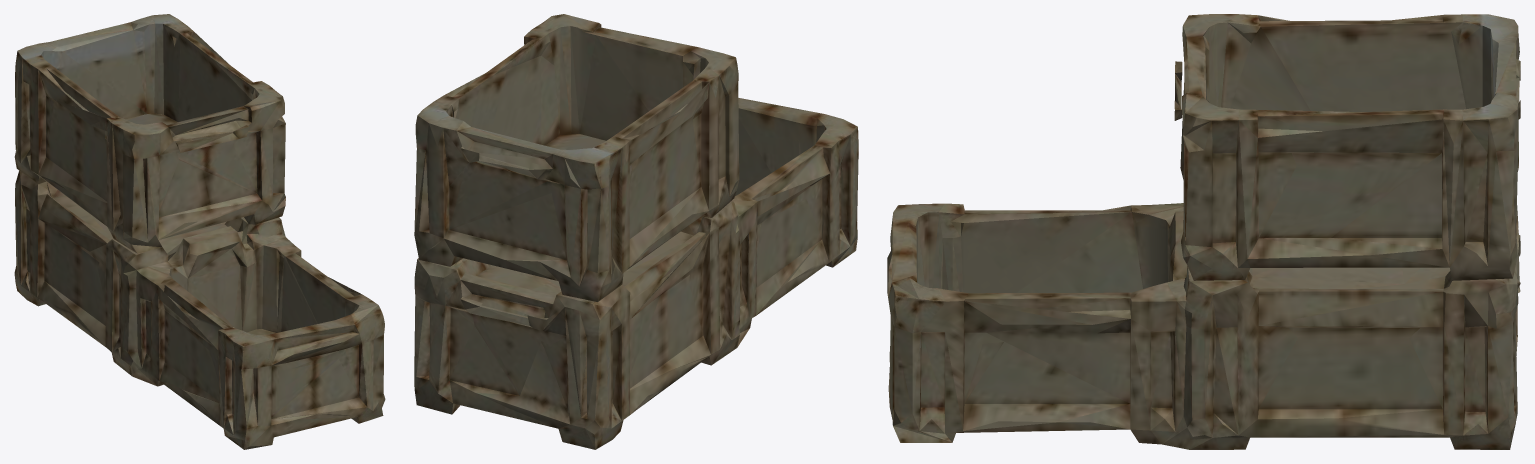
File: cajas-metal.glb
3 views of the same model, side by side, from view 1: azimuth 30°, elevation 25°; view 2: azimuth 150°, elevation 25°; view 3: azimuth 270°, elevation 25° (orthographic). The views are drawn at different scales.
Bounding box in the file's own units: 0.764 × 1.11 × 1.9.
Materials: 1 (1 with a texture image).
